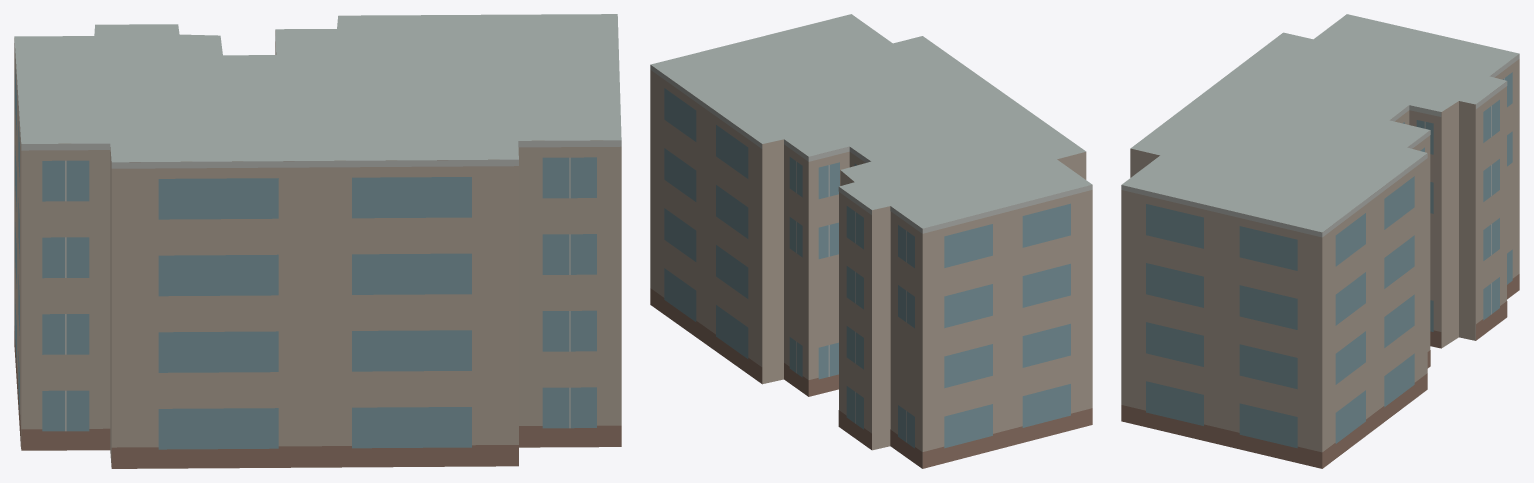
The model's file is survey-upis-32920586.glb.
3 views of the same model, side by side, from view 1: azimuth 30°, elevation 25°; view 2: azimuth 150°, elevation 25°; view 3: azimuth 270°, elevation 25° (orthographic). The views are drawn at different scales.
Visible parts, largest first — view 1: survey-upis-32920586.tmp; view 2: survey-upis-32920586.tmp; view 3: survey-upis-32920586.tmp.
Part boxes in pixels (x1=…): survey-upis-32920586.tmp: x1=14, y1=14, x2=621, y2=468; survey-upis-32920586.tmp: x1=650, y1=14, x2=1092, y2=468; survey-upis-32920586.tmp: x1=1121, y1=14, x2=1519, y2=468.
Size of the model in its own units: 22.7 by 11.45 by 17.49.
